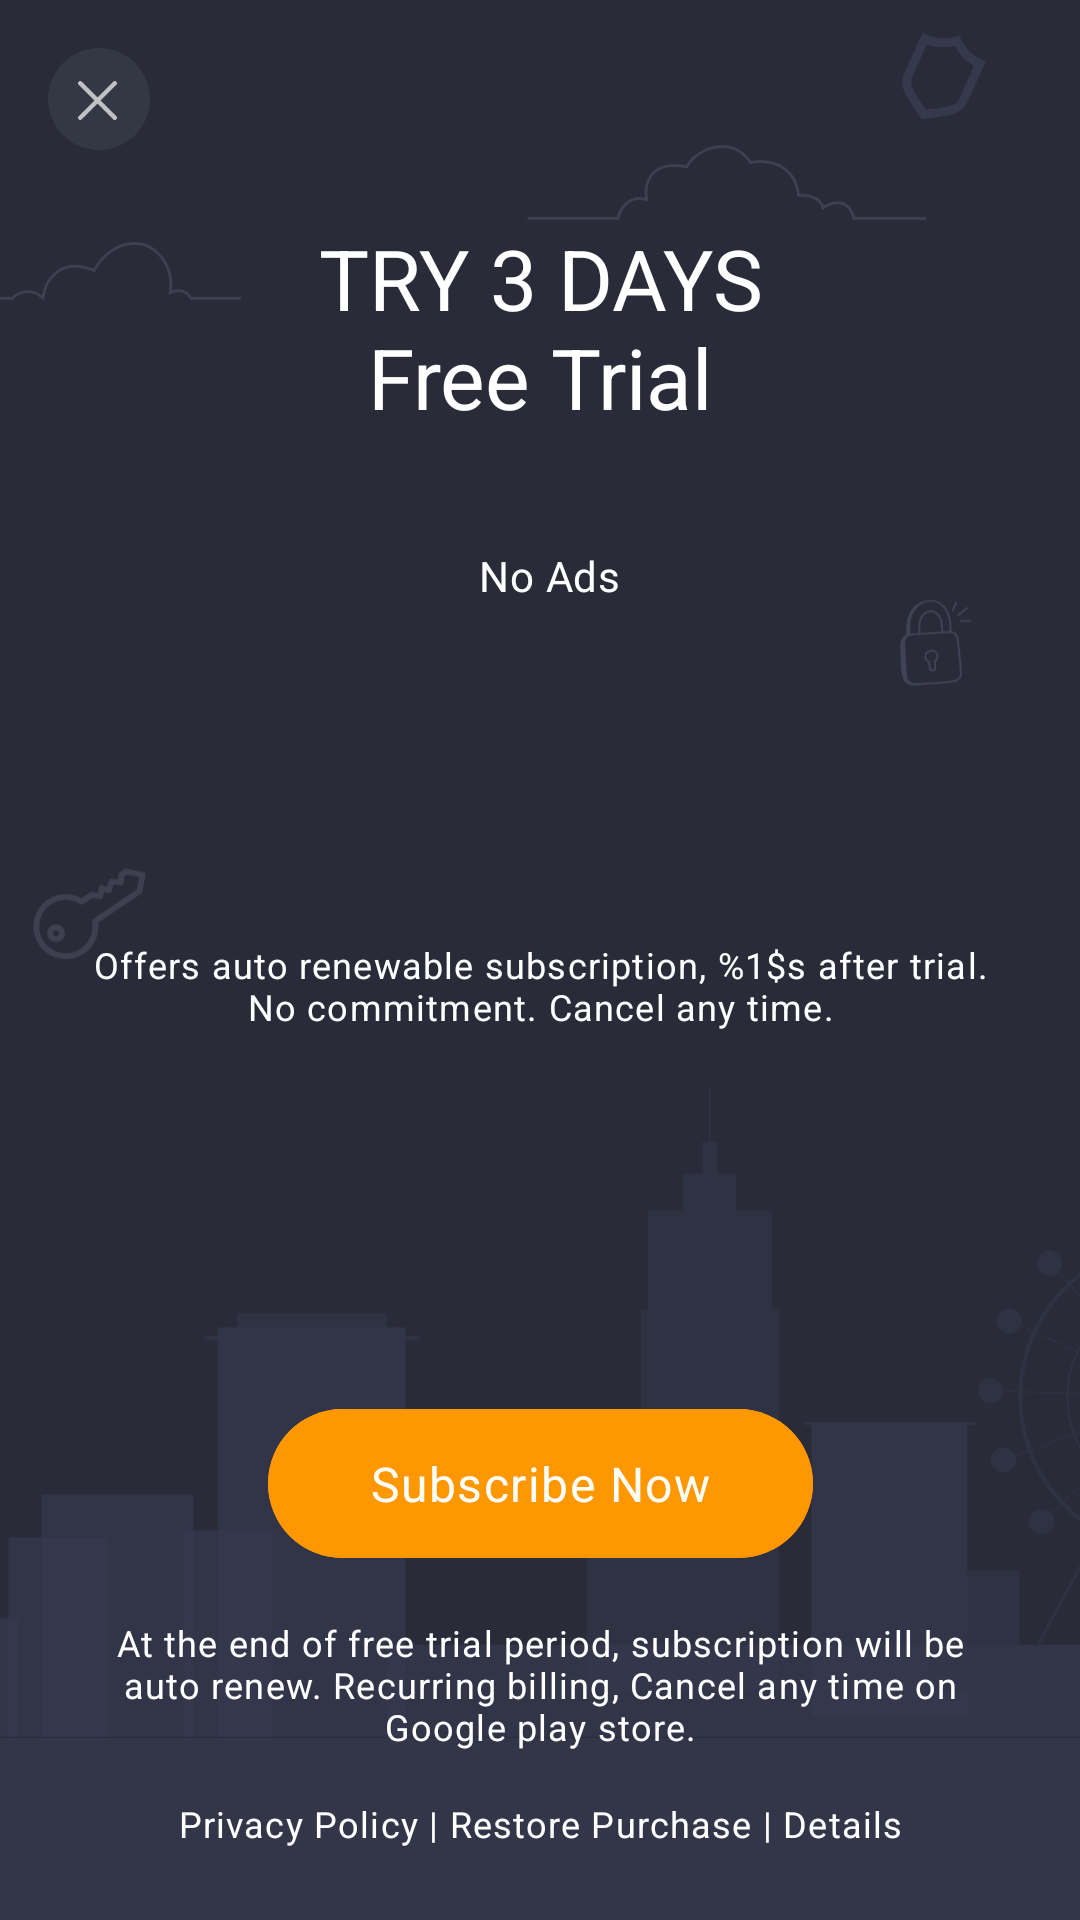

Icon bounding boxes for this 1080 x 1920 phone screenshot, format bbox=[x1, y1, x2, y2]:
close round: bbox=[48, 48, 150, 150]
